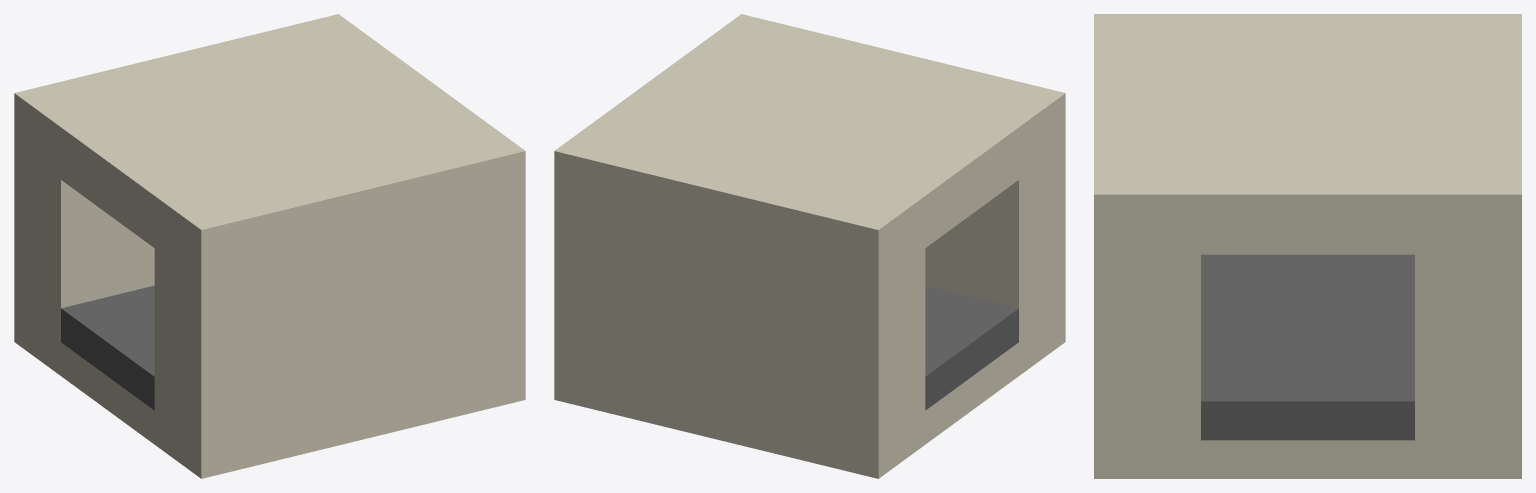
The model's file is tile242.fbx.
3 views of the same model, side by side, from view 1: azimuth 30°, elevation 25°; view 2: azimuth 150°, elevation 25°; view 3: azimuth 270°, elevation 25° (orthographic). The views are drawn at different scales.
Visible parts, largest first — view 1: tile242; view 2: tile242; view 3: tile242.
Part boxes in pixels (x1,y1,x2,y2): tile242: (14,14,525,478); tile242: (554,14,1065,478); tile242: (1094,14,1521,478).
Size of the model in its own units: 10 by 7.33 by 10.
